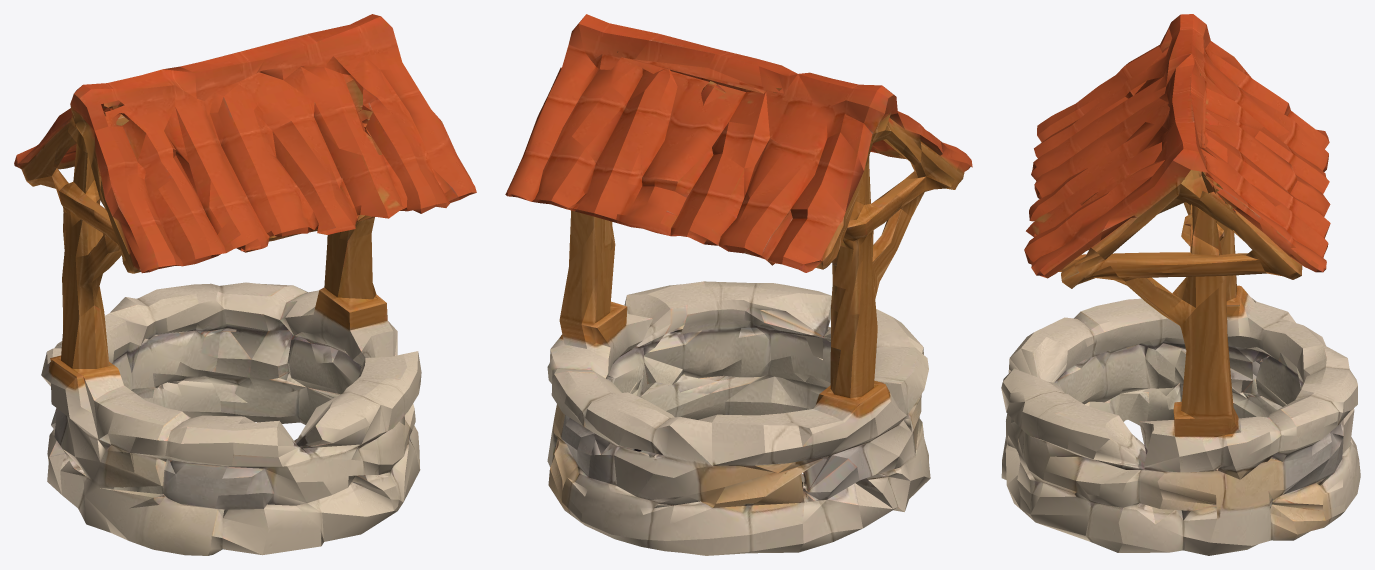
The model's file is kuyu.glb.
The picture shows the model from 3 angles, left to right: view 1: azimuth 30°, elevation 25°; view 2: azimuth 150°, elevation 25°; view 3: azimuth 270°, elevation 25°; orthographic projection. The views are drawn at different scales.
Parts seen in each view (by area): view 1: Mesh0; view 2: Mesh0; view 3: Mesh0.
Boxes of the visible parts, bbox=[...] form: Mesh0: bbox=[14, 14, 476, 555]; Mesh0: bbox=[505, 14, 972, 555]; Mesh0: bbox=[1001, 14, 1360, 555].
Size of the model in its own units: 1.55 by 1.9 by 1.53.
Materials: 1 (1 with a texture image).
